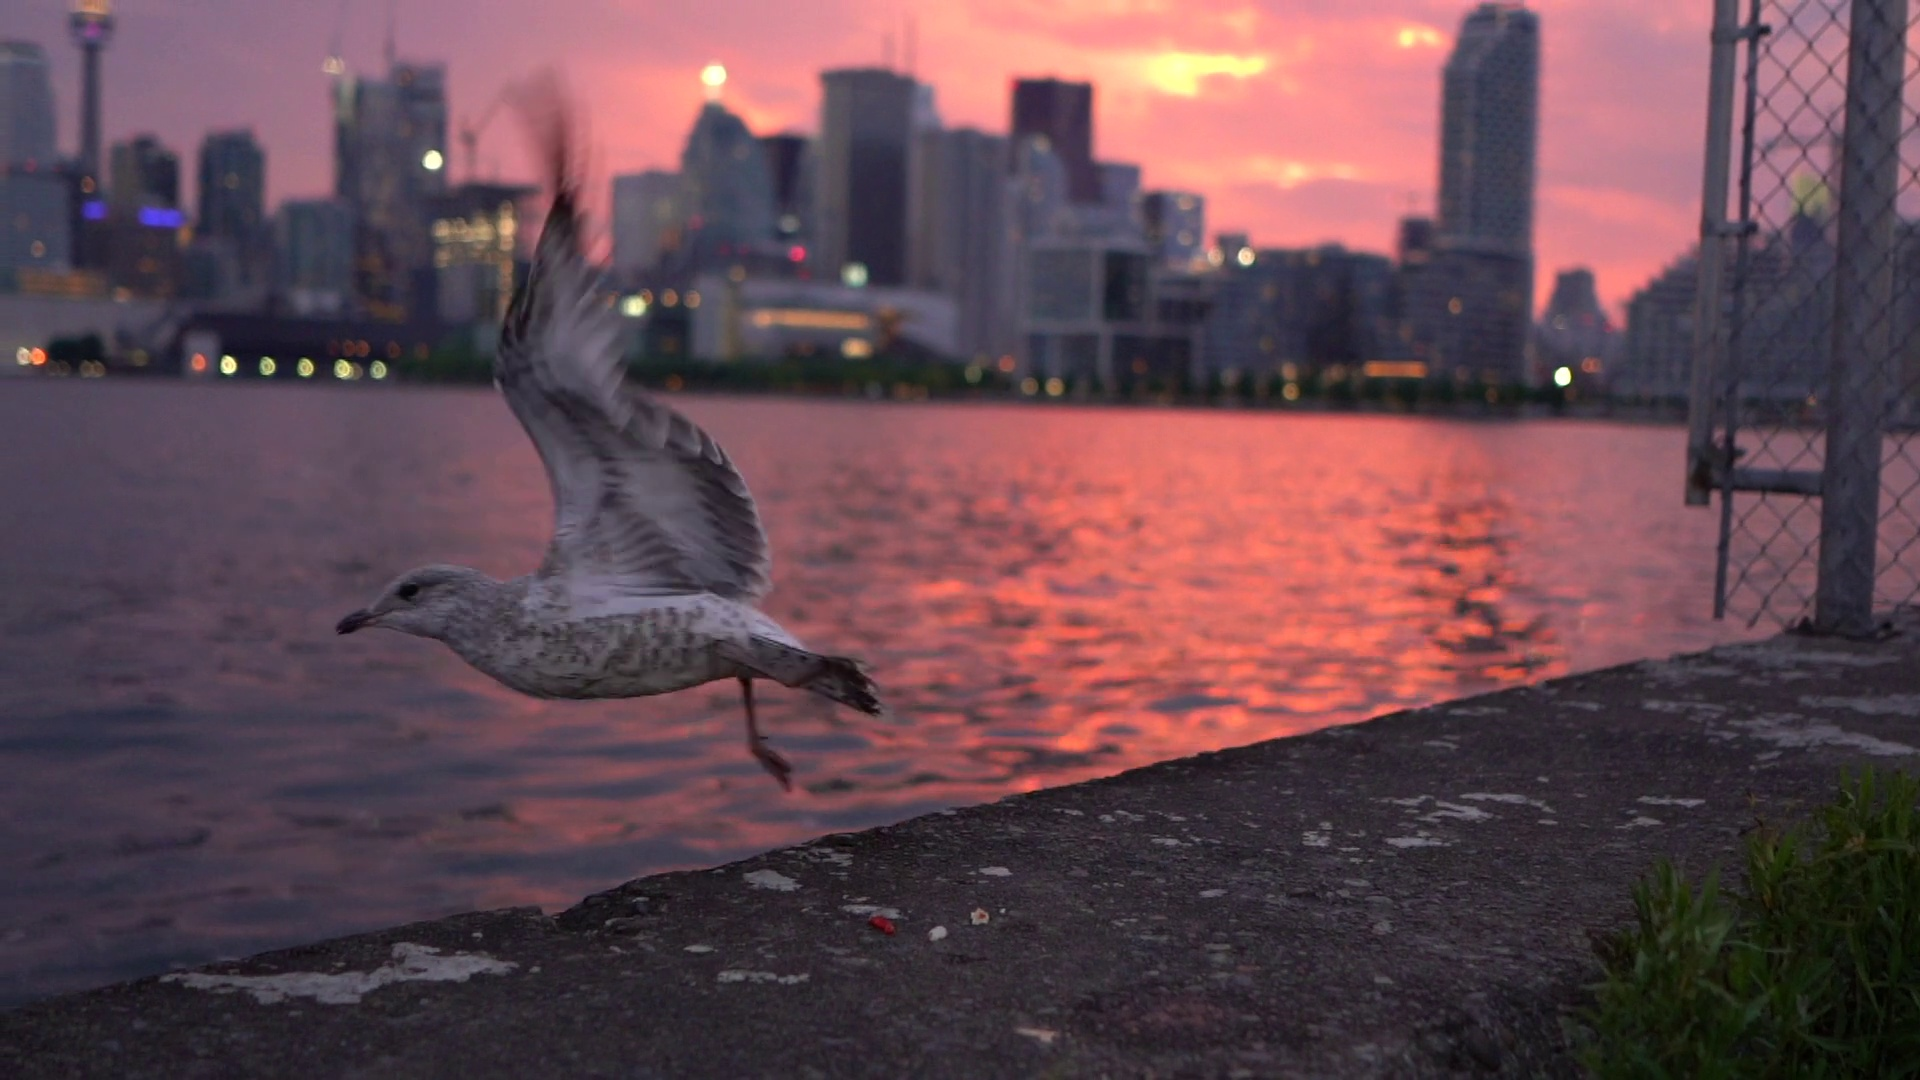bird: (327, 123, 882, 791)
